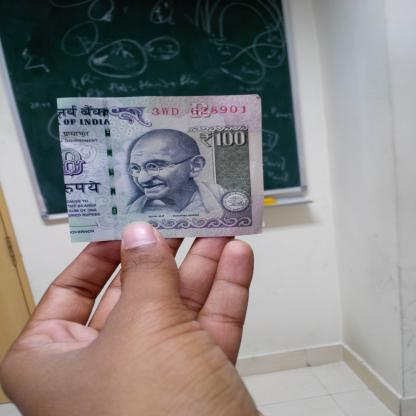Old100Front: (56, 94, 266, 243)
